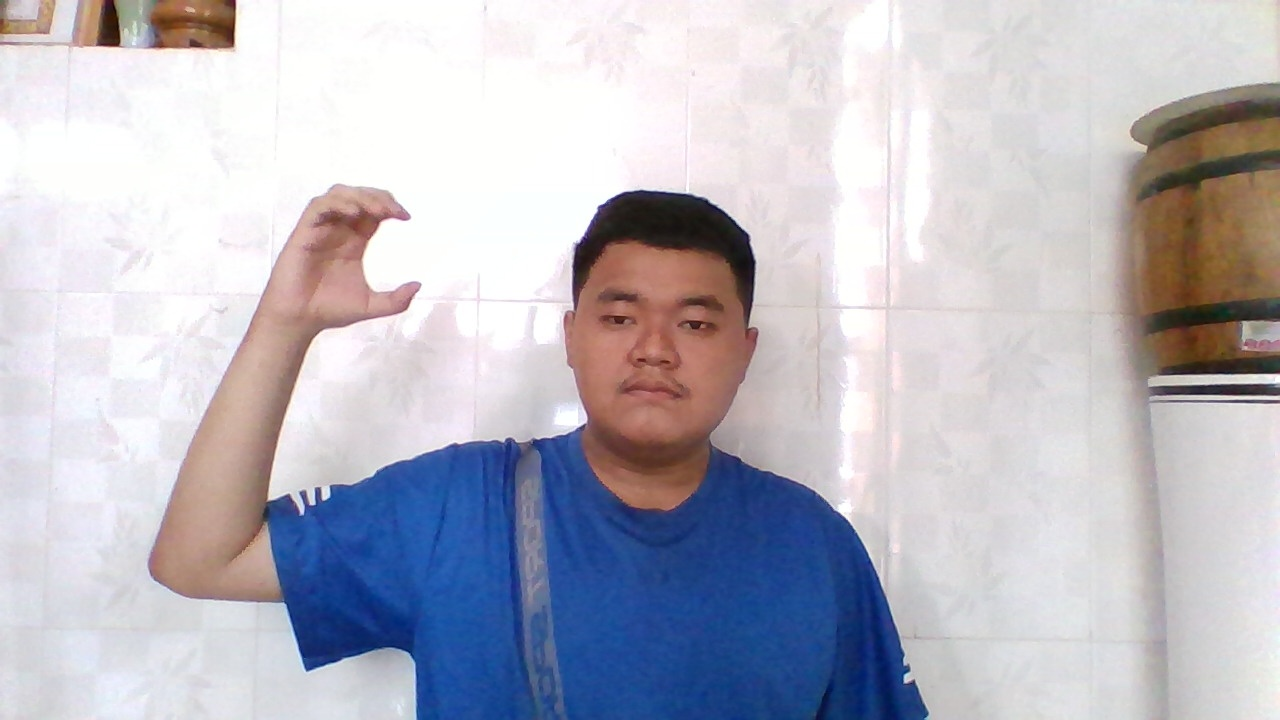C: (284, 175, 429, 338)
